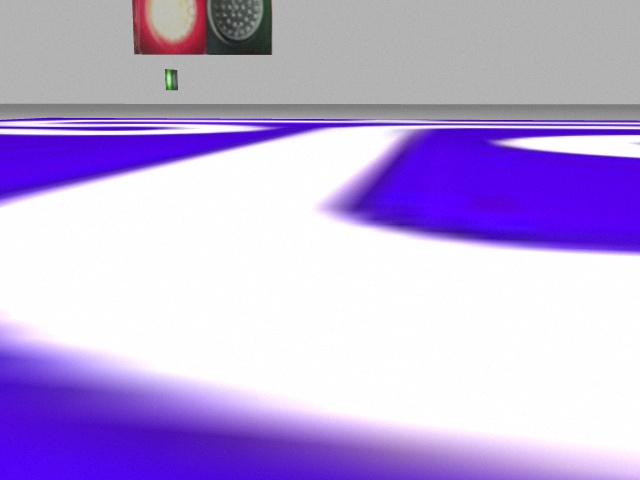red: (132, 1, 207, 55)
